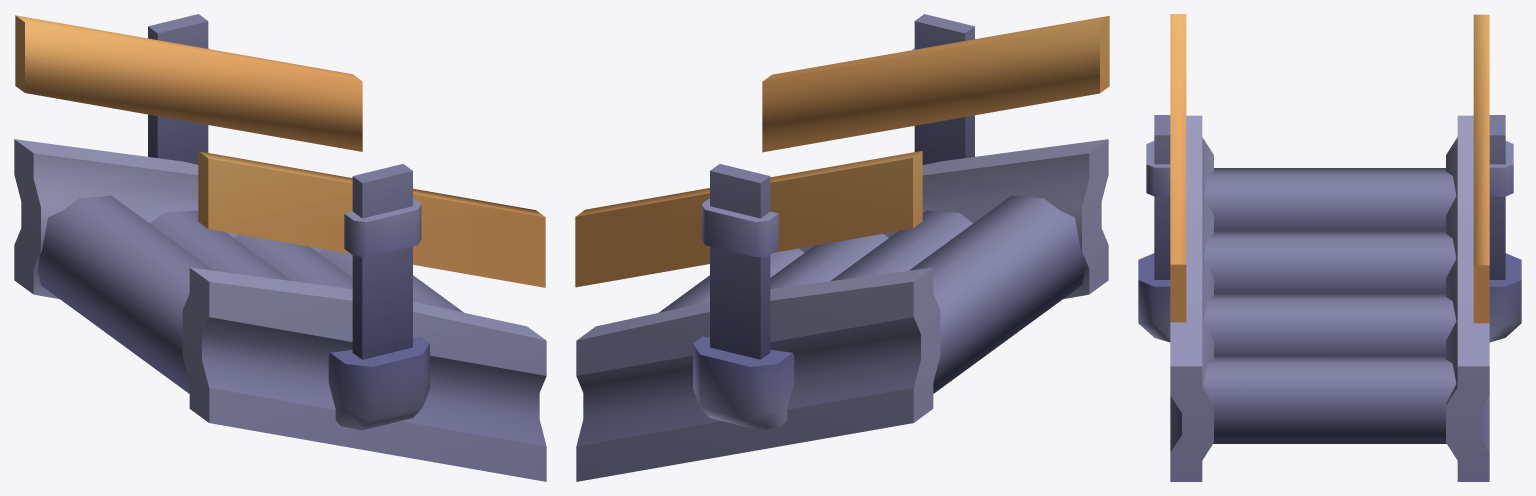
The model's file is kenney-factory-conveyor-bars-fence-slope.glb.
3 views of the same model, side by side, from view 1: azimuth 30°, elevation 25°; view 2: azimuth 150°, elevation 25°; view 3: azimuth 270°, elevation 25° (orthographic). The views are drawn at different scales.
Parts seen in each view (by area): view 1: conveyor-bars-fence-slope; view 2: conveyor-bars-fence-slope; view 3: conveyor-bars-fence-slope.
Boxes of the visible parts, box(x1,y1,x2,y2) form: conveyor-bars-fence-slope: box(14, 14, 546, 481); conveyor-bars-fence-slope: box(575, 14, 1109, 481); conveyor-bars-fence-slope: box(1138, 14, 1521, 481).
Size of the model in its own units: 1.01 by 1.15 by 1.2.
1 material, 1 textured.
